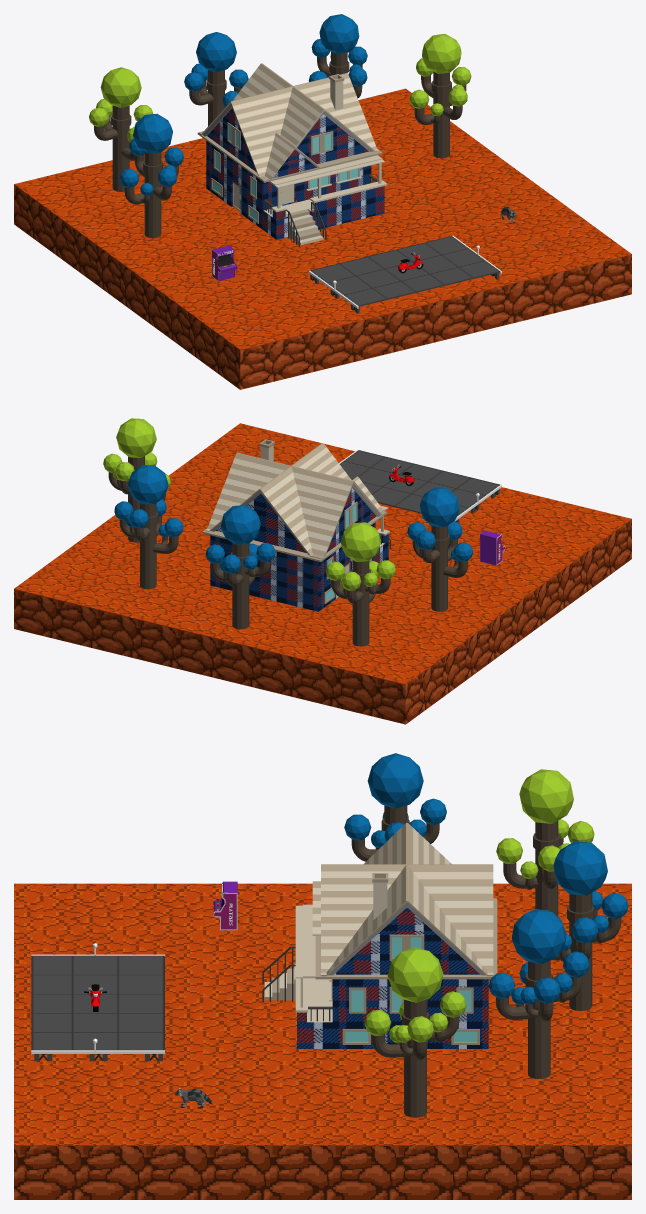
3 views of the same model, one above another, from view 1: azimuth 30°, elevation 25°; view 2: azimuth 150°, elevation 25°; view 3: azimuth 270°, elevation 25° (orthographic). The views are drawn at different scales.
Visible parts, largest first — view 1: Cube.001, Cube.171, OBJRANDOM_ARCADE; view 2: Cube.001, Cube.171, OBJRANDOM_ARCADE; view 3: Cube.001, Cube.171, OBJRANDOM_ARCADE.
Part boxes in pixels (x1,y1,x2,y2): Cube.001: (14, 14, 631, 389); Cube.171: (197, 63, 387, 246); OBJRANDOM_ARCADE: (211, 245, 237, 281); Cube.001: (14, 418, 631, 724); Cube.171: (202, 439, 390, 611); OBJRANDOM_ARCADE: (480, 530, 505, 565); Cube.001: (14, 753, 631, 1199); Cube.171: (262, 823, 497, 1048); OBJRANDOM_ARCADE: (213, 881, 237, 930).
Bounding box in the file's own units: 4000 × 1680 × 4000.
Materials: 36 (5 with a texture image).
